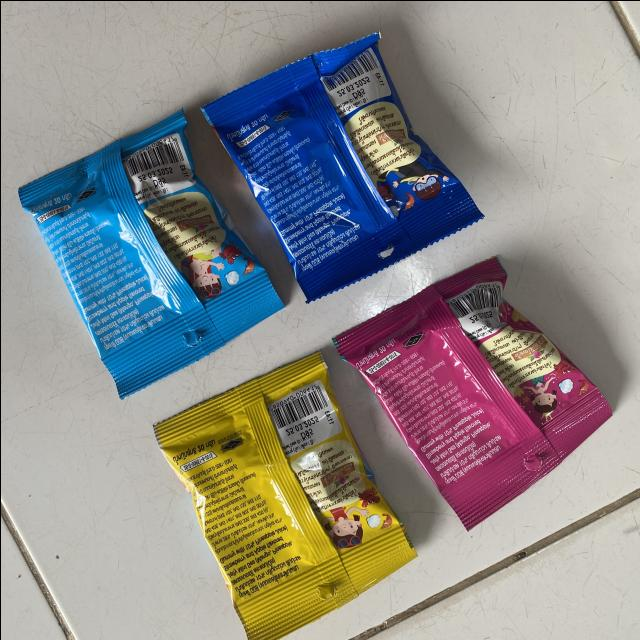plastik: (17, 110, 282, 398), (153, 352, 416, 640), (333, 258, 611, 529), (201, 32, 482, 300)
